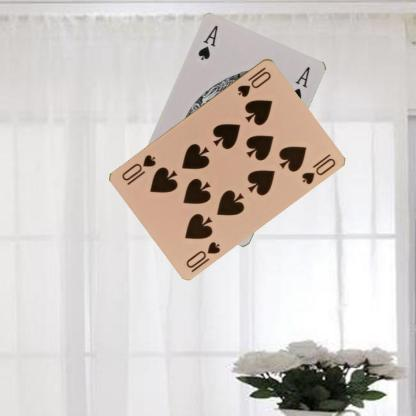10s: (235, 64, 272, 98), (183, 238, 222, 269)
As: (195, 23, 220, 63)
